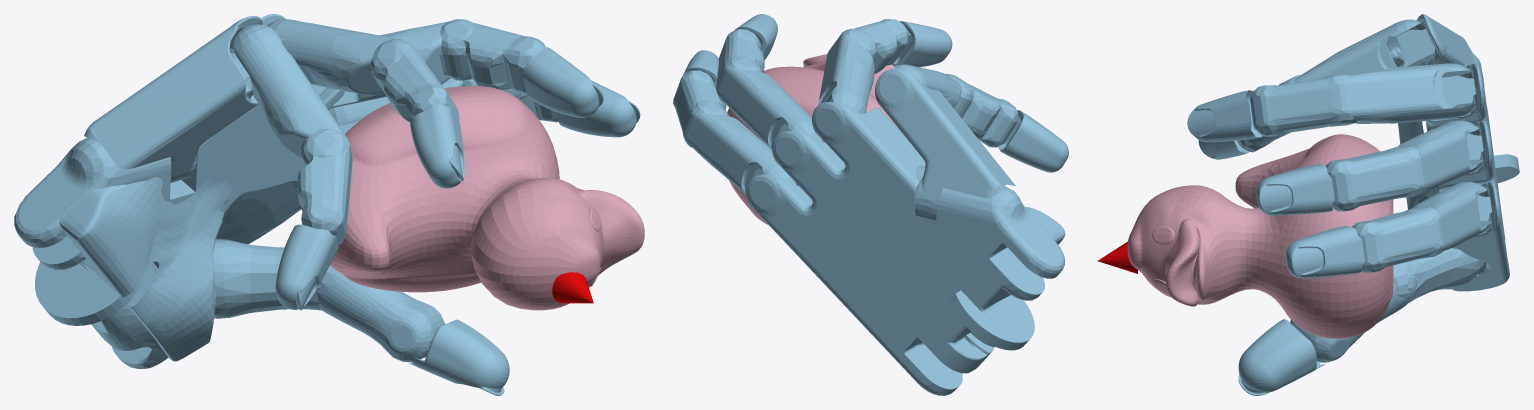
3 views of the same model, side by side, from view 1: azimuth 30°, elevation 25°; view 2: azimuth 150°, elevation 25°; view 3: azimuth 270°, elevation 25° (orthographic). The views are drawn at different scales.
Parts seen in each view (by area): view 1: world, rubber_duck.stl; view 2: world, rubber_duck.stl; view 3: world, rubber_duck.stl.
Boxes of the visible parts, <box> form: world: <box>14,14,640,395</box>; rubber_duck.stl: <box>330,86,644,310</box>; world: <box>673,14,1068,395</box>; rubber_duck.stl: <box>727,54,899,224</box>; world: <box>1097,14,1519,395</box>; rubber_duck.stl: <box>1127,134,1393,338</box>.
Size of the model in its own units: 0.1986 by 0.1241 by 0.1525.
